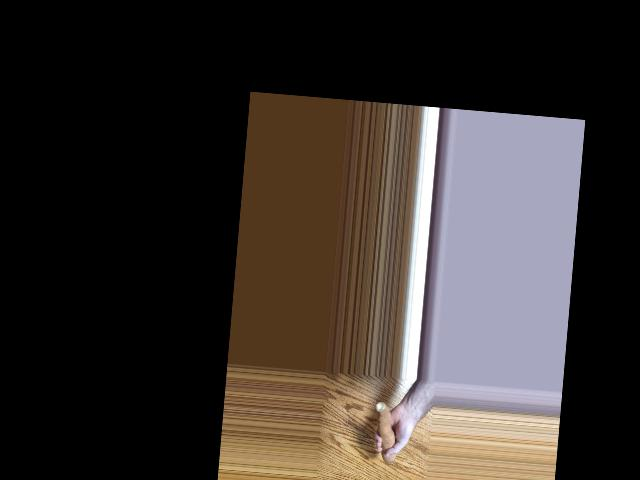sweet_potato: (374, 396, 403, 459)
